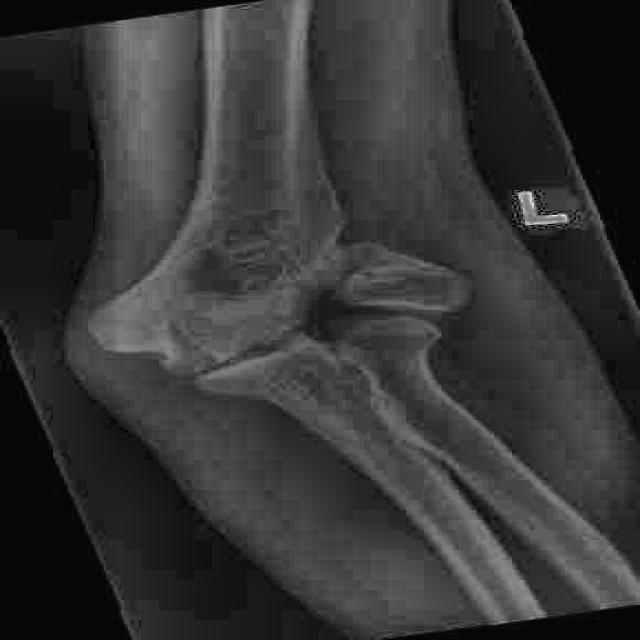elbow positive: (309, 221, 498, 325)
